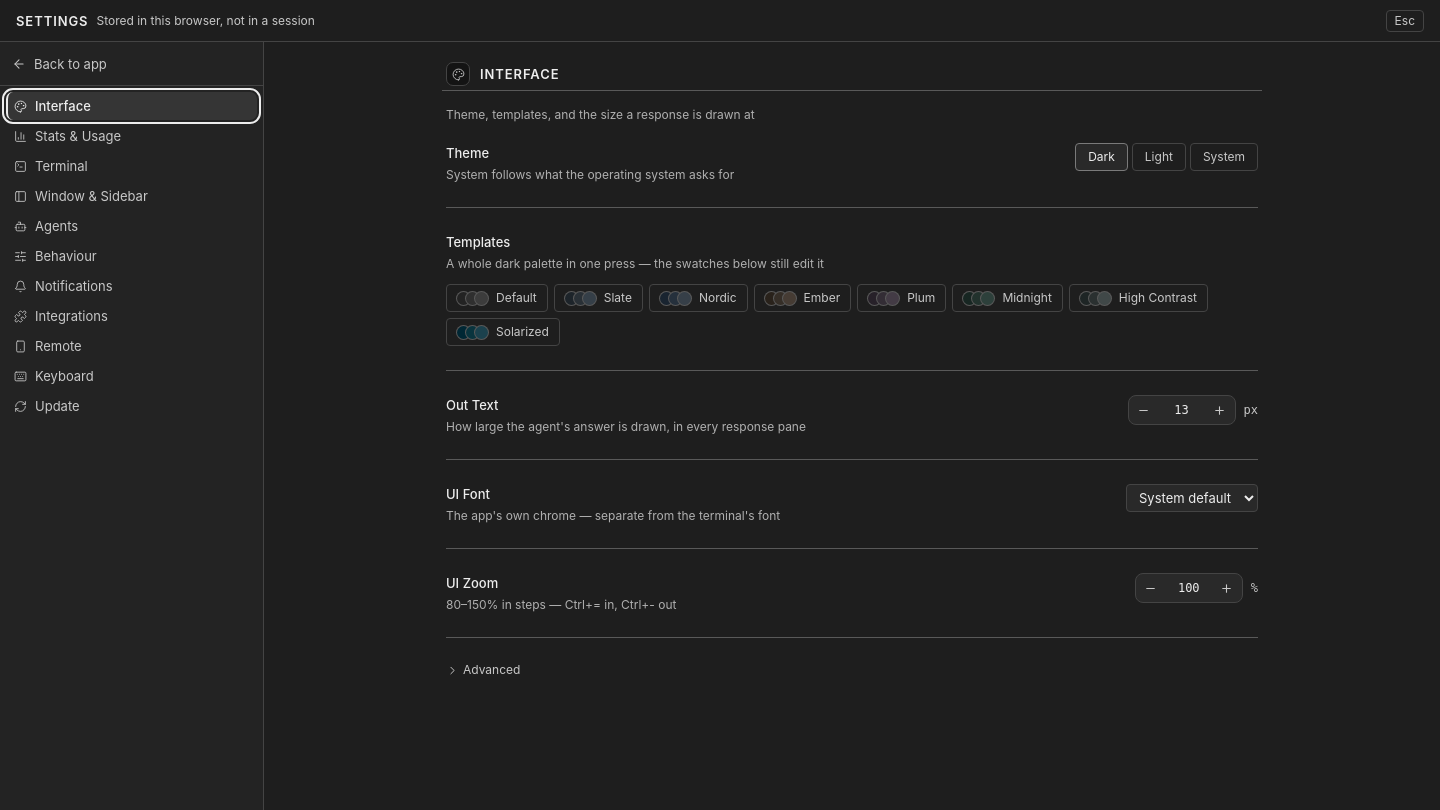
the section is reachable from the dialog it belongs to › has its own nav item, and opens a panel with the version in it
The width and height of the screenshot is (1440, 810).
Click the button "Update".
click(132, 406)  # box [6,392,257,420]
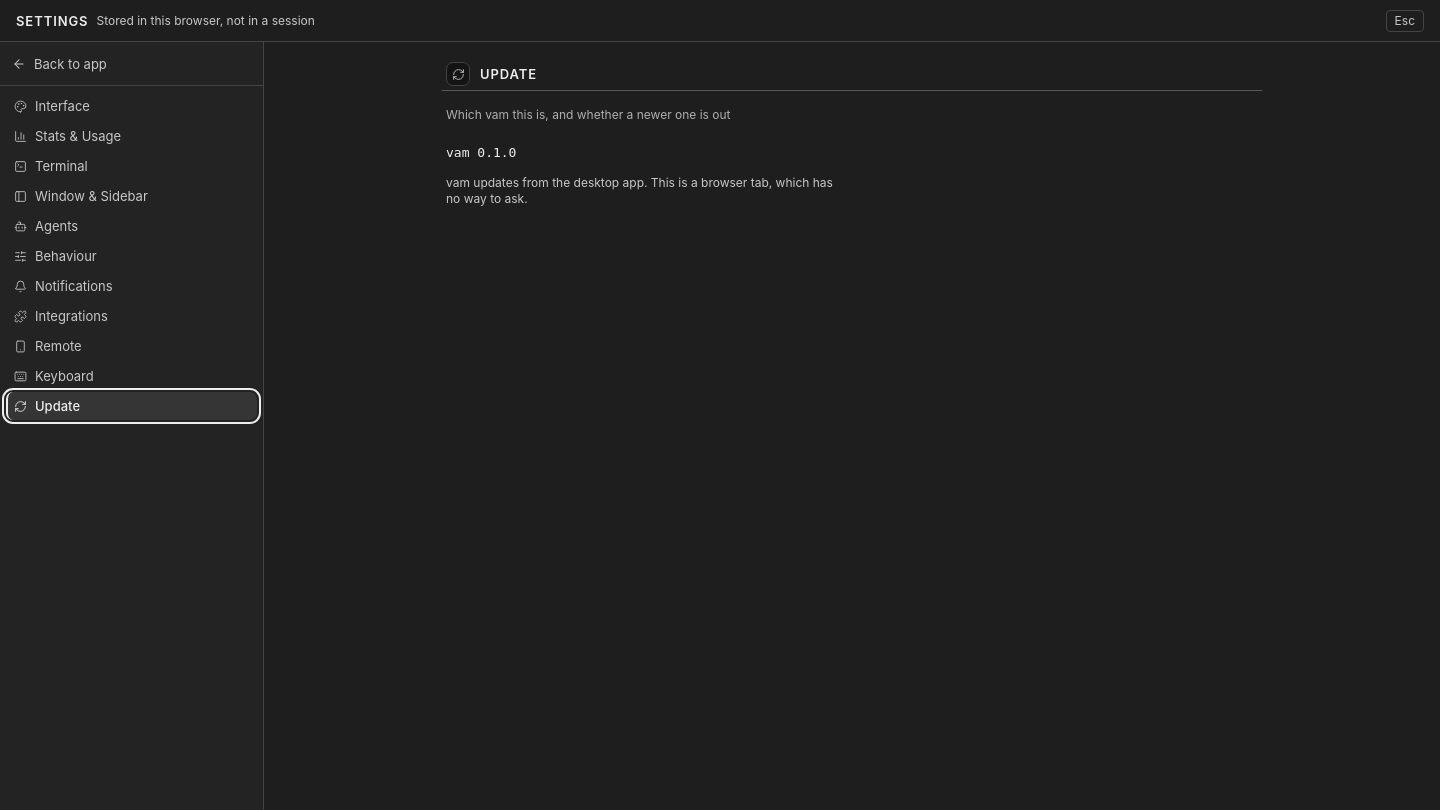
Expected: the text "vam 0.1.0" is shown, [446,145,516,160]
